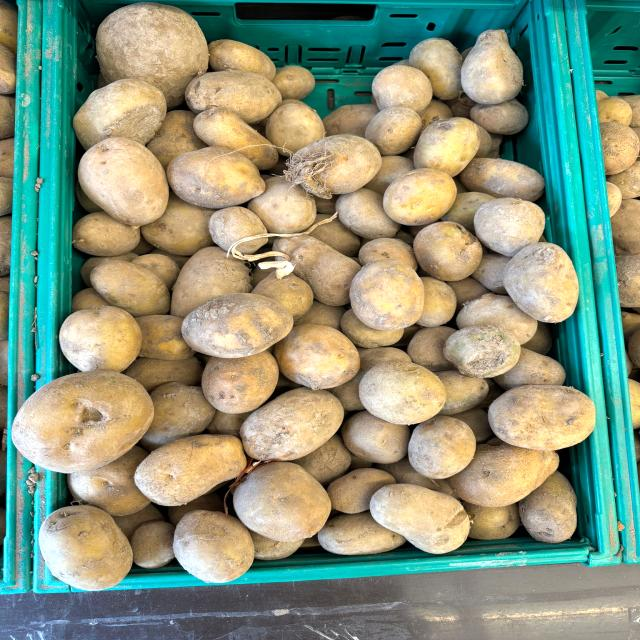potato: (2, 371, 176, 477), (15, 500, 152, 595), (63, 132, 175, 232), (230, 378, 352, 466), (166, 290, 298, 362), (497, 238, 593, 328), (340, 253, 439, 338)
